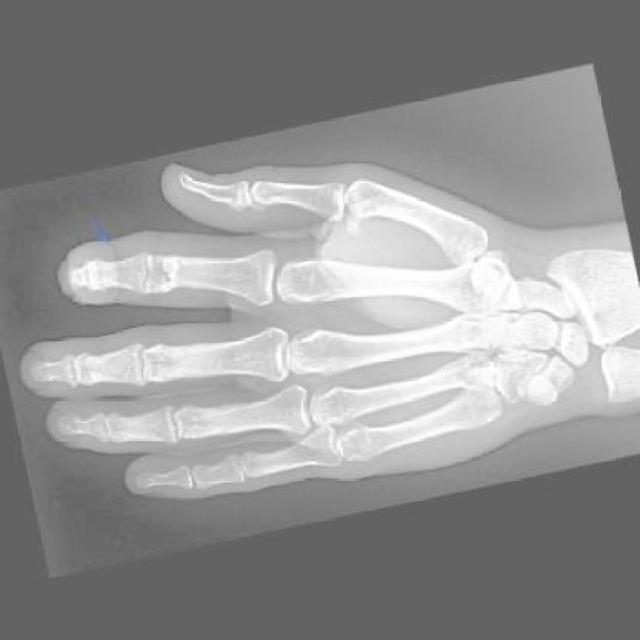Fracture: (145, 248, 179, 294)
